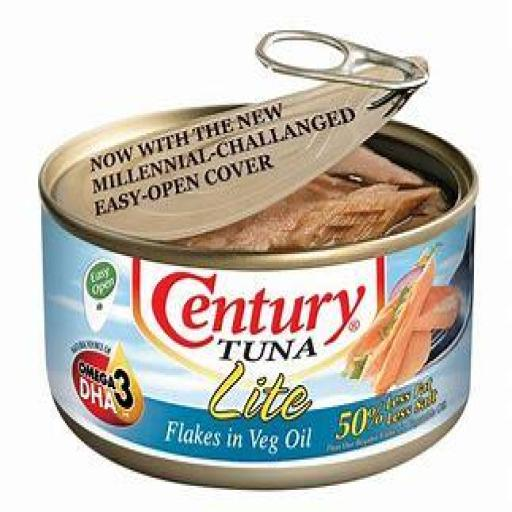can: (36, 56, 480, 489)
pop tab: (254, 24, 430, 90)
